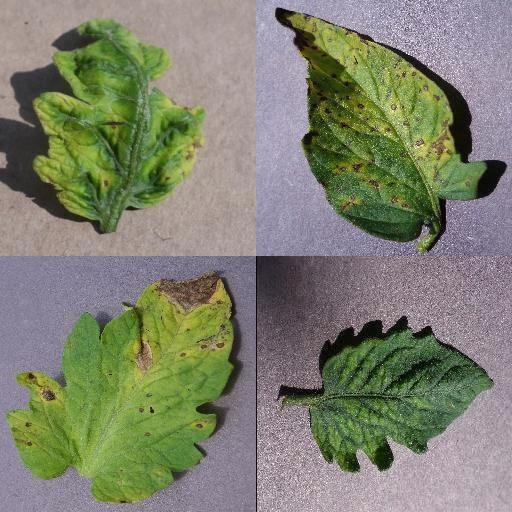Mosaic Virus: (307, 325, 497, 475)
Septoria: (7, 270, 235, 506), (274, 8, 488, 240)
Yellow Leaf Curl Virus: (33, 21, 205, 219)
